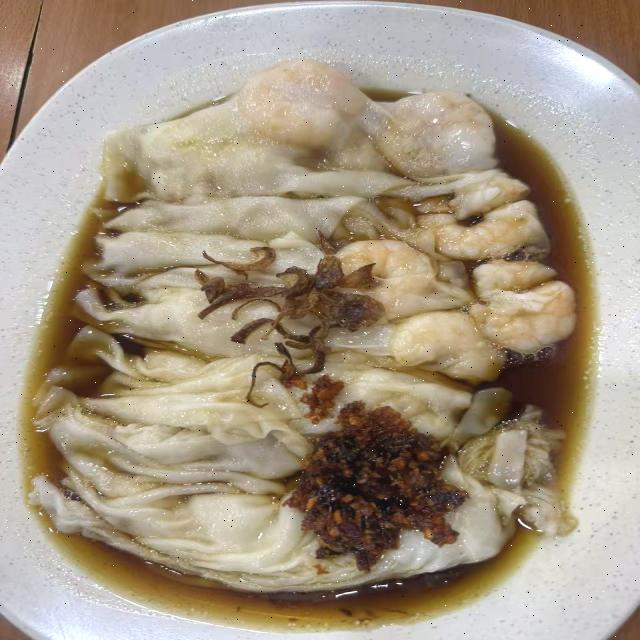Chee Cheong Fun: (25, 36, 571, 613)
